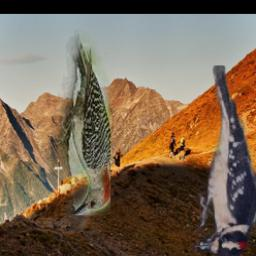Woodpecker: (193, 66, 256, 256), (51, 31, 110, 216)
